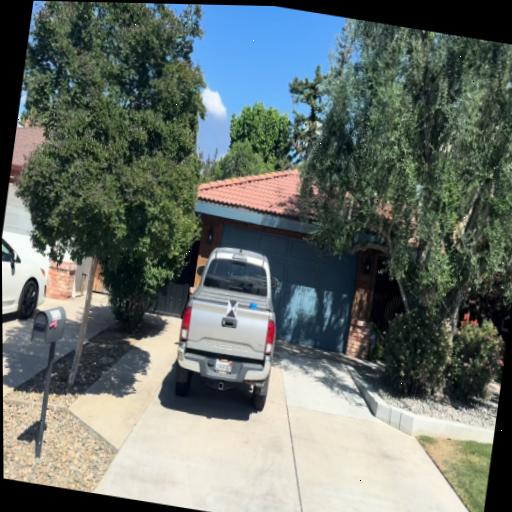target1: (226, 299, 238, 319)
